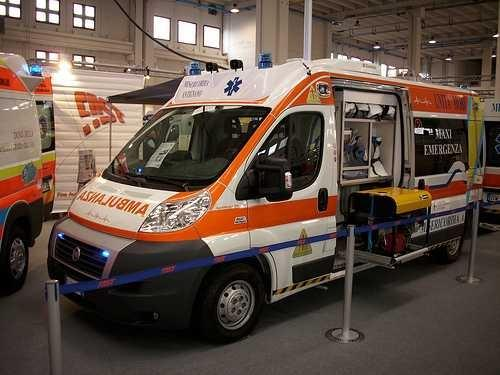car: (45, 56, 485, 341)
